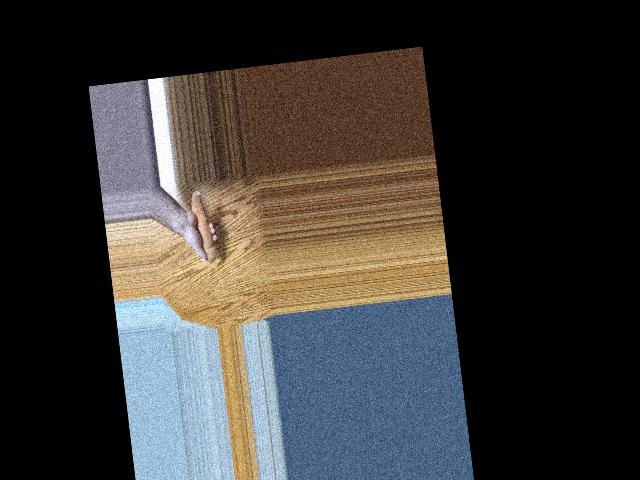sweet_potato: (187, 189, 220, 263)
